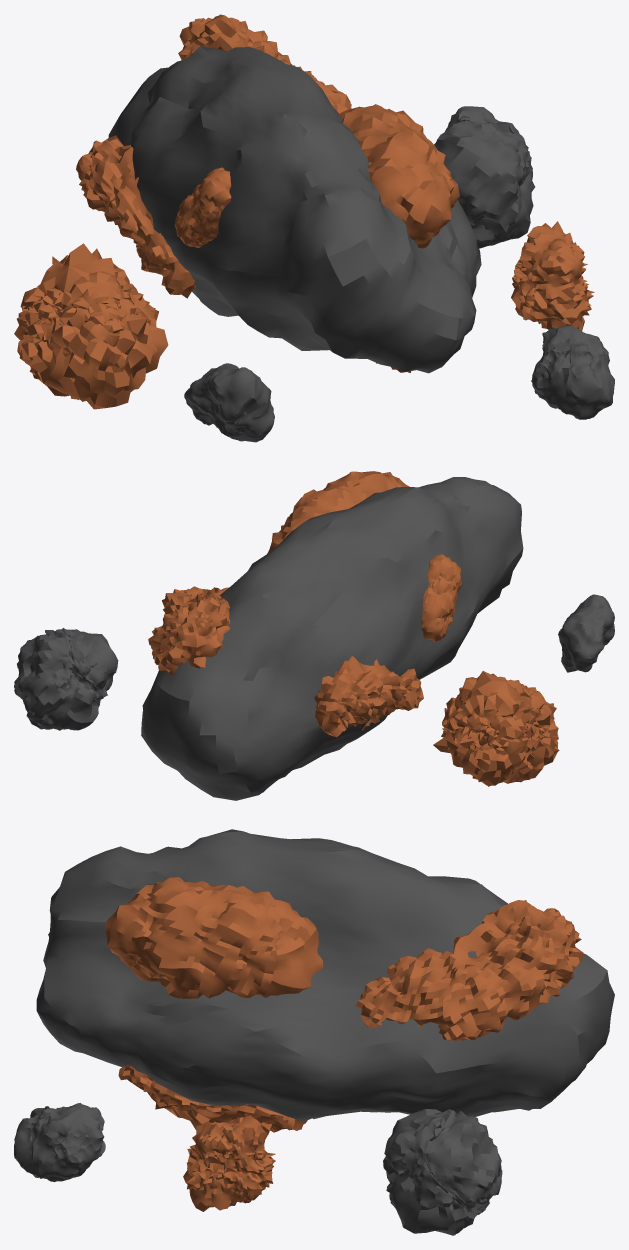
Rendered from varchionOre.fbx.
3 renders of one model, top to bottom at view 1: azimuth 30°, elevation 25°; view 2: azimuth 150°, elevation 25°; view 3: azimuth 270°, elevation 25°, orthographic. The views are drawn at different scales.
Parts seen in each view (by area): view 1: rock.002, rock.014, rock.013, rock.003, rock.007, rock.017, rock.015, rock.016, rock.006, rock.005; view 2: rock.002, rock.014, rock.013, rock.007, rock.006, rock.003, rock.016, rock.005, rock.017; view 3: rock.002, rock.003, rock.006, rock.013, rock.017, rock.015, rock.004.
Boxes of the visible parts, bbox=[...] form: rock.002: bbox=[108, 46, 481, 373]; rock.014: bbox=[14, 243, 168, 409]; rock.013: bbox=[434, 106, 535, 248]; rock.003: bbox=[338, 104, 459, 248]; rock.007: bbox=[76, 135, 195, 298]; rock.017: bbox=[511, 221, 594, 330]; rock.015: bbox=[531, 325, 614, 419]; rock.016: bbox=[184, 363, 274, 442]; rock.006: bbox=[178, 14, 351, 113]; rock.005: bbox=[174, 167, 231, 247]; rock.002: bbox=[141, 477, 523, 800]; rock.014: bbox=[433, 671, 559, 786]; rock.013: bbox=[14, 628, 118, 730]; rock.007: bbox=[314, 656, 423, 737]; rock.006: bbox=[148, 587, 230, 674]; rock.003: bbox=[267, 471, 409, 553]; rock.016: bbox=[558, 594, 614, 672]; rock.005: bbox=[421, 554, 461, 641]; rock.017: bbox=[162, 586, 204, 623]; rock.002: bbox=[36, 829, 614, 1121]; rock.003: bbox=[105, 877, 323, 998]; rock.006: bbox=[355, 900, 583, 1040]; rock.013: bbox=[383, 1109, 502, 1235]; rock.017: bbox=[183, 1115, 275, 1211]; rock.015: bbox=[14, 1103, 105, 1181]; rock.004: bbox=[118, 1064, 307, 1134].
Bounding box in the file's own units: 326 × 149 × 316.
